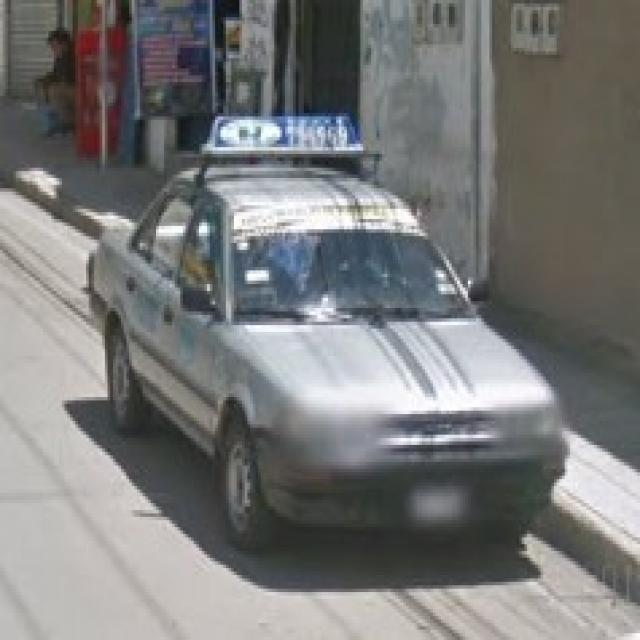truck: (88, 110, 576, 586)
